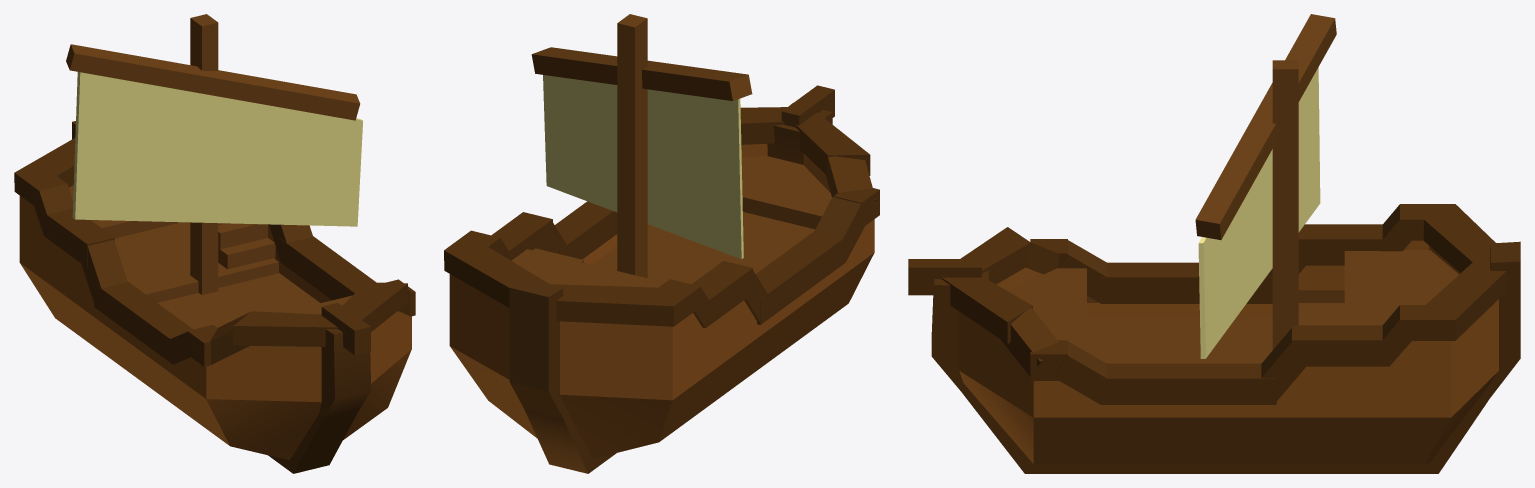
The model's file is transportship.fbx.
3 views of the same model, side by side, from view 1: azimuth 30°, elevation 25°; view 2: azimuth 150°, elevation 25°; view 3: azimuth 270°, elevation 25° (orthographic). The views are drawn at different scales.
Visible parts, largest first — view 1: polySurface363; view 2: polySurface363; view 3: polySurface363.
Boxes of the visible parts, x1=… form: polySurface363: x1=14, y1=14, x2=415, y2=473; polySurface363: x1=444, y1=14, x2=879, y2=473; polySurface363: x1=908, y1=14, x2=1520, y2=473.
Size of the model in its own units: 122 by 171 by 235.
Materials: 1 (1 with a texture image).
